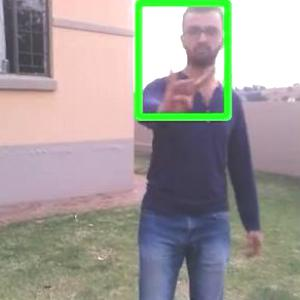takeoff-hand: (157, 53, 217, 122)
